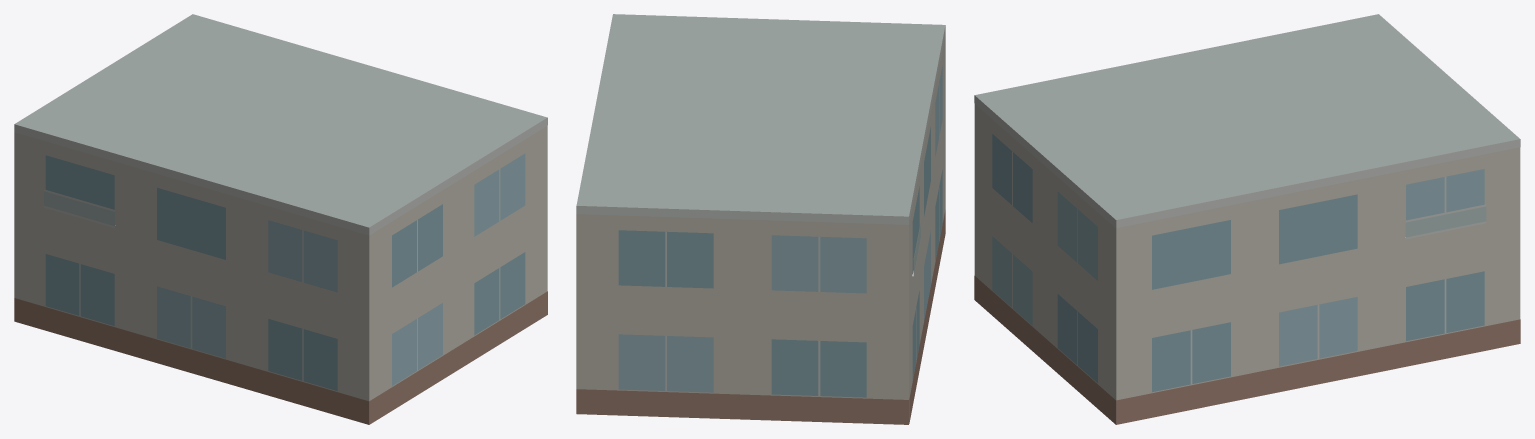
File: survey-upis-32928027.glb
The picture shows the model from 3 angles, left to right: view 1: azimuth 30°, elevation 25°; view 2: azimuth 150°, elevation 25°; view 3: azimuth 270°, elevation 25°; orthographic projection. The views are drawn at different scales.
Parts seen in each view (by area): view 1: survey-upis-32928027.tmp; view 2: survey-upis-32928027.tmp; view 3: survey-upis-32928027.tmp.
Boxes of the visible parts, x1,y1,x2,y2 form: survey-upis-32928027.tmp: [14, 14, 547, 424]; survey-upis-32928027.tmp: [576, 14, 945, 424]; survey-upis-32928027.tmp: [974, 14, 1520, 424].
Bounding box in the file's own units: 13.18 × 6.1 × 14.75.
